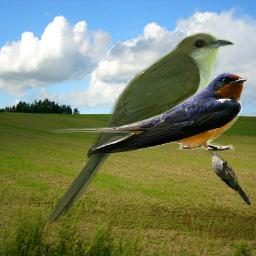Cuckoo: (47, 32, 235, 227), (211, 152, 252, 205)
Swallow: (50, 70, 248, 155)
